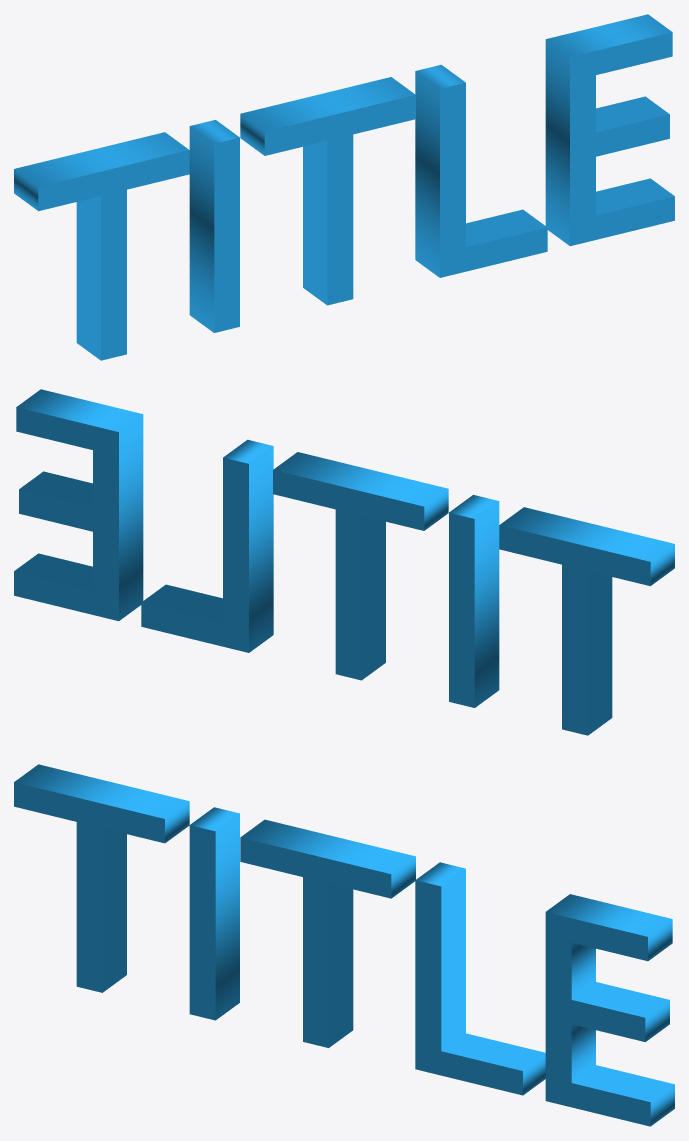
The model's file is Title.obj.
3 views of the same model, one above another, from view 1: azimuth 30°, elevation 25°; view 2: azimuth 150°, elevation 25°; view 3: azimuth 330°, elevation 25° (orthographic).
Parts seen in each view (by area): view 1: Text.001; view 2: Text.001; view 3: Text.001.
Boxes of the visible parts, x1,y1,x2,y2 form: Text.001: (14,14,674,360); Text.001: (14,389,674,735); Text.001: (14,764,674,1126).
Bounding box in the file's own units: 2.4 × 0.682 × 0.16.
